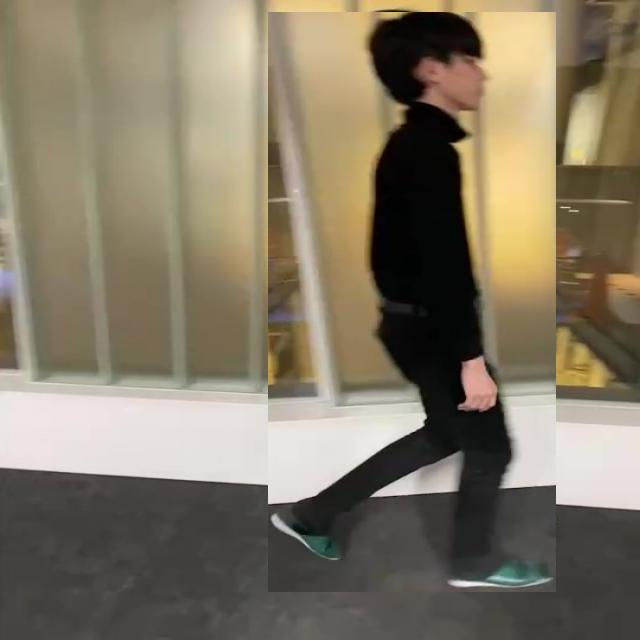direk: (268, 12, 556, 592)
